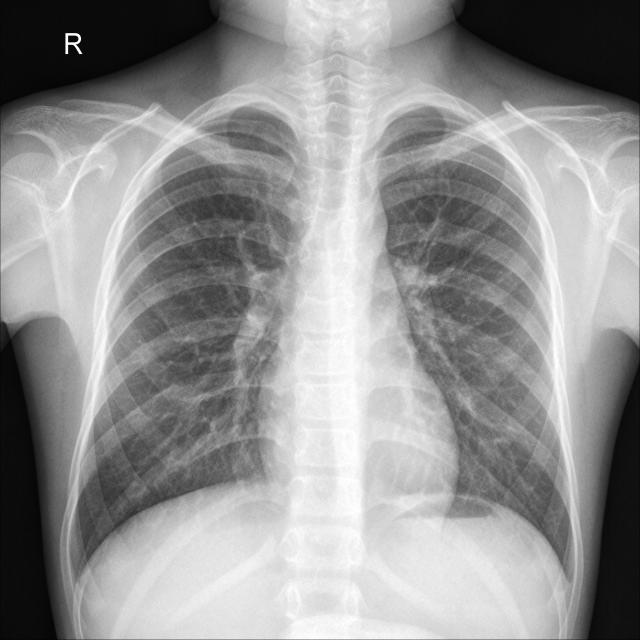no-pneumonia: (78, 108, 304, 556), (382, 109, 572, 562)
